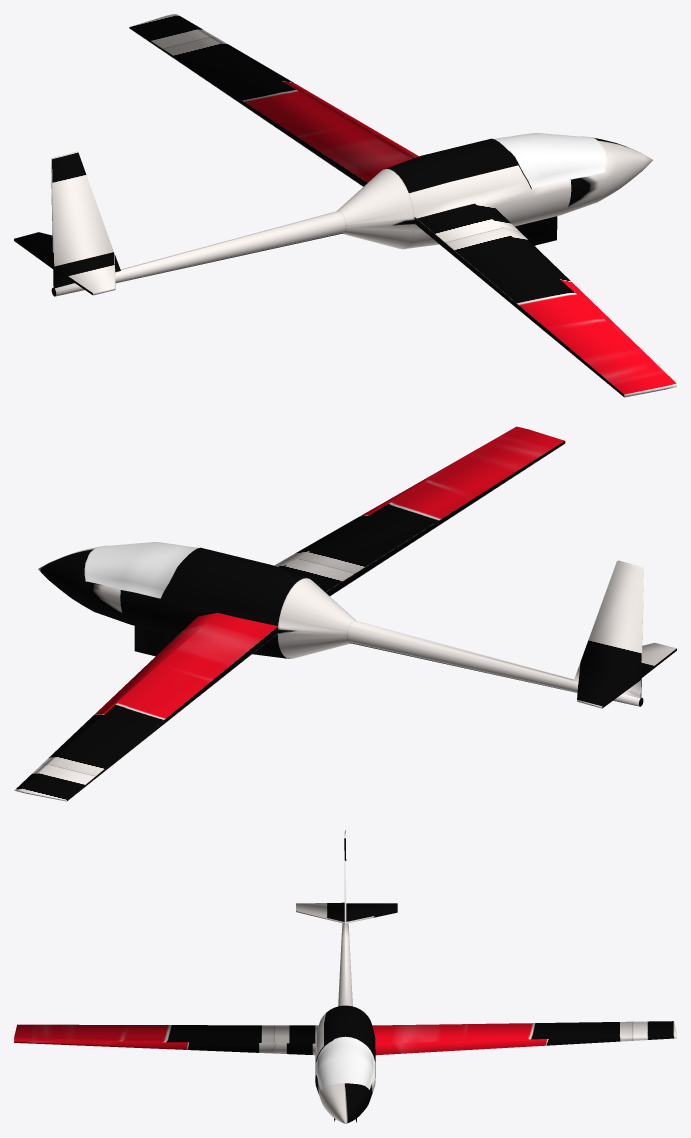
The model's file is LAK12.gltf.
3 views of the same model, one above another, from view 1: azimuth 30°, elevation 25°; view 2: azimuth 150°, elevation 25°; view 3: azimuth 270°, elevation 25° (orthographic). The views are drawn at different scales.
Visible parts, largest first — view 1: Cylinder; view 2: Cylinder; view 3: Cylinder.
Boxes of the visible parts, x1,y1,x2,y2 form: Cylinder: (14,14,676,397); Cylinder: (14,426,676,801); Cylinder: (14,830,676,1123).
Bounding box in the file's own units: 15.22 × 4.96 × 21.88.
Materials: 3 (2 with a texture image).
